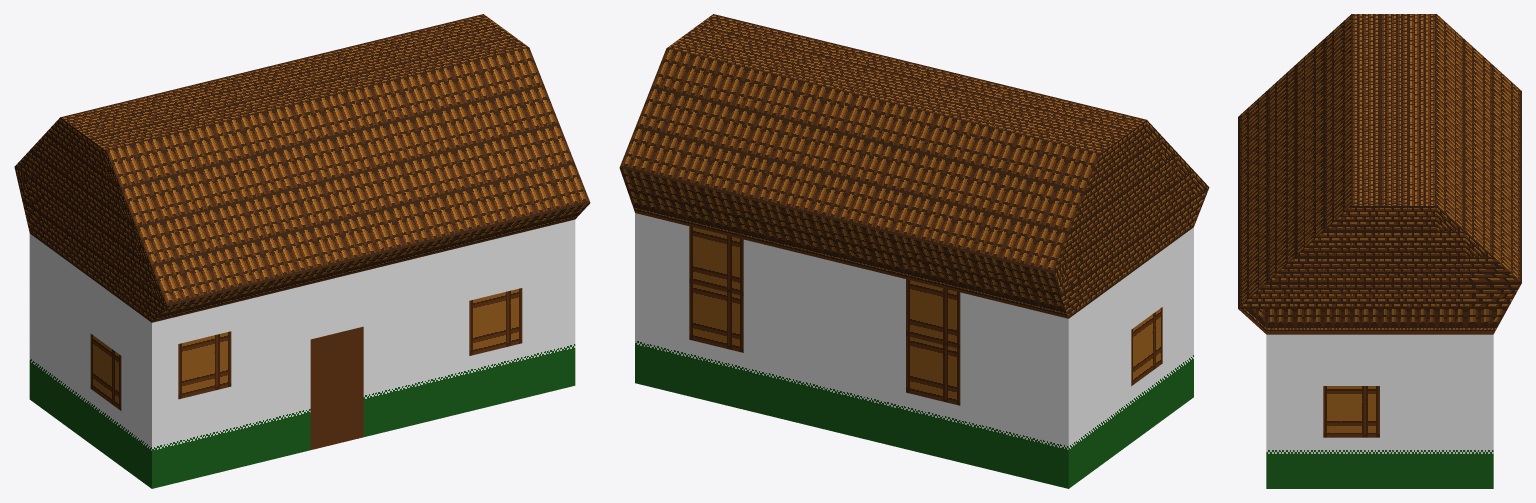
File: house.gltf
3 renders of one model, left to right at view 1: azimuth 30°, elevation 25°; view 2: azimuth 150°, elevation 25°; view 3: azimuth 270°, elevation 25°, orthographic. The views are drawn at different scales.
Bounding box in the file's own units: 16 × 11 × 10.
Materials: 1 (1 with a texture image).
